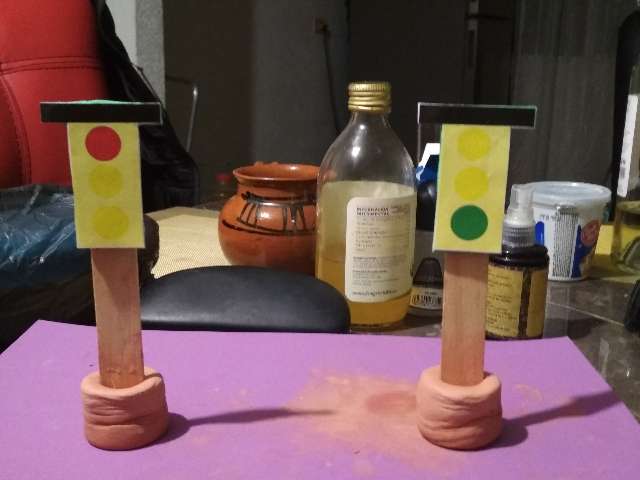Green: (408, 96, 542, 259)
Red: (33, 92, 165, 252)
